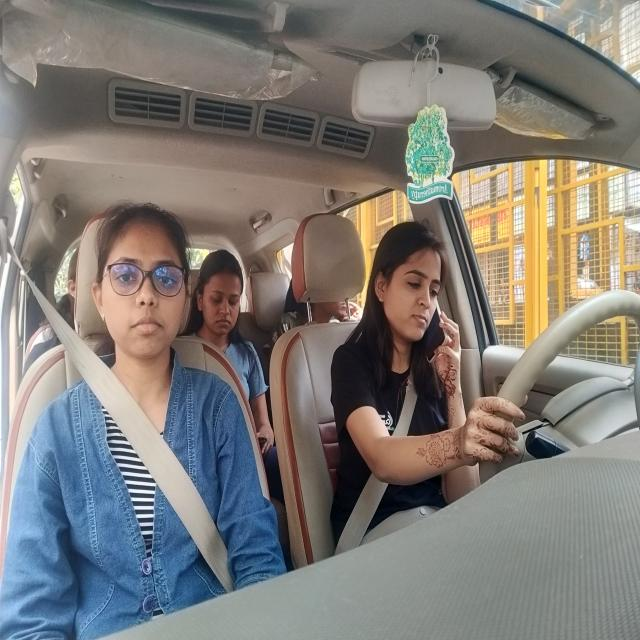mobile: (421, 314, 452, 373)
person: (101, 203, 192, 364), (372, 225, 436, 342), (200, 238, 252, 338), (285, 290, 362, 321), (58, 242, 82, 324)
